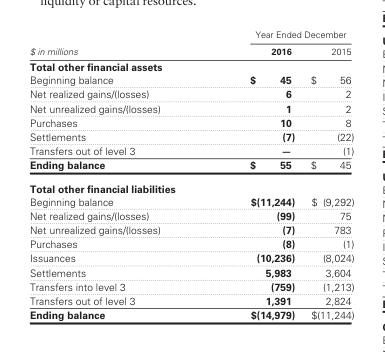table: (28, 28, 353, 320)
table column: (28, 28, 204, 320), (204, 28, 302, 320), (302, 28, 353, 320)
table column header: (28, 28, 353, 58)
table projected row header: (28, 176, 353, 194), (28, 58, 353, 73)
table row: (28, 157, 353, 176), (28, 176, 353, 194), (28, 42, 353, 58), (28, 58, 353, 73), (28, 100, 353, 115), (28, 264, 353, 279), (28, 28, 353, 42), (28, 86, 353, 100), (28, 115, 353, 129), (28, 129, 353, 143), (28, 143, 353, 157), (28, 194, 353, 208), (28, 208, 353, 222), (28, 222, 353, 236), (28, 236, 353, 250), (28, 250, 353, 264), (28, 279, 353, 293), (28, 293, 353, 307), (28, 73, 353, 86), (28, 307, 353, 320)
table spanning cell: (28, 28, 204, 58), (204, 28, 353, 42)
